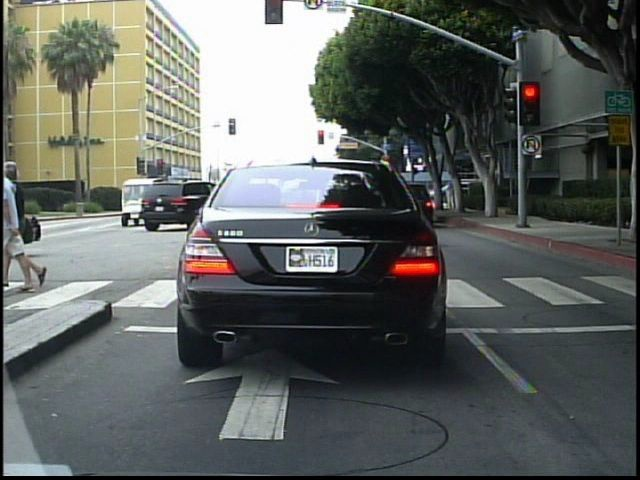person: (4, 150, 49, 297), (14, 154, 43, 294), (443, 181, 455, 213)
